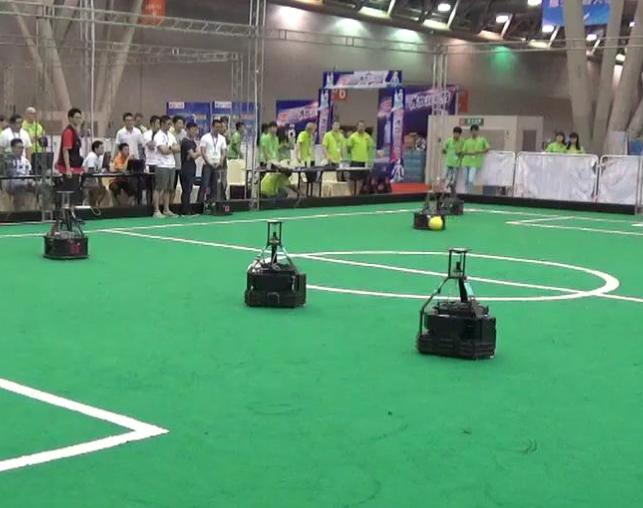robot: (410, 240, 500, 360), (239, 214, 312, 312)
